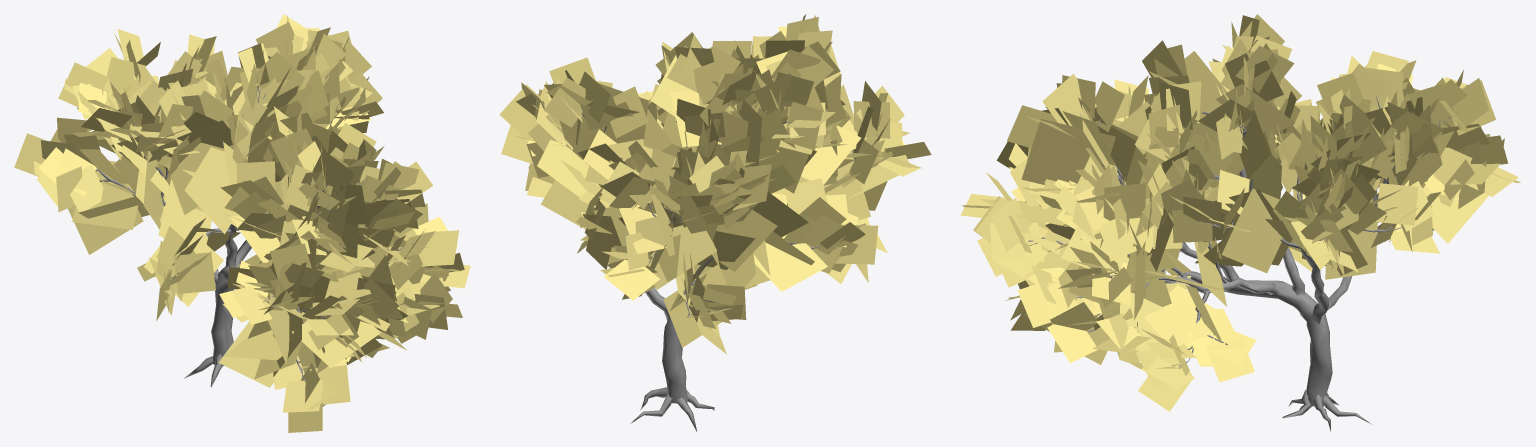
Rendered from deadtree_02_LOD1.FBX.
3 renders of one model, left to right at view 1: azimuth 30°, elevation 25°; view 2: azimuth 150°, elevation 25°; view 3: azimuth 270°, elevation 25°, orthographic. The views are drawn at different scales.
Parts seen in each view (by area): view 1: deadtree_02_LOD1; view 2: deadtree_02_LOD1; view 3: deadtree_02_LOD1.
Boxes of the visible parts, box(x1,y1,x2,y2) form: deadtree_02_LOD1: box(14, 14, 470, 432); deadtree_02_LOD1: box(499, 14, 931, 431); deadtree_02_LOD1: box(960, 14, 1520, 431).
Bounding box in the file's own units: 18.9 × 21.03 × 28.06.
